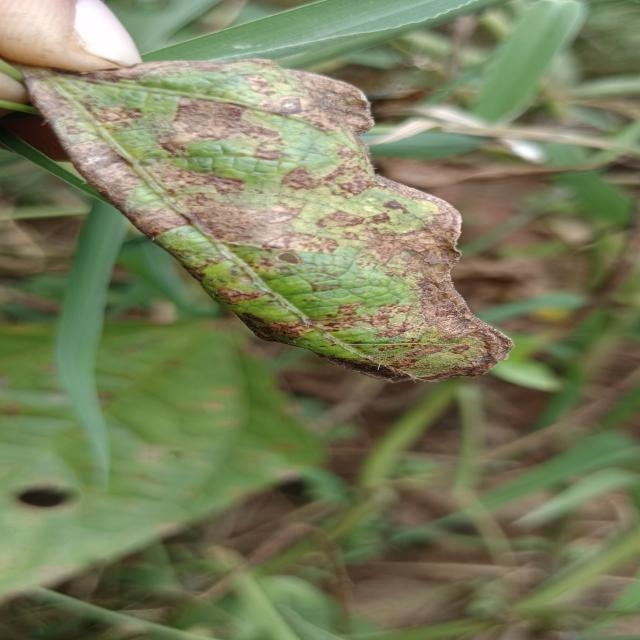Black gram_leaf spot: (25, 52, 509, 389)
